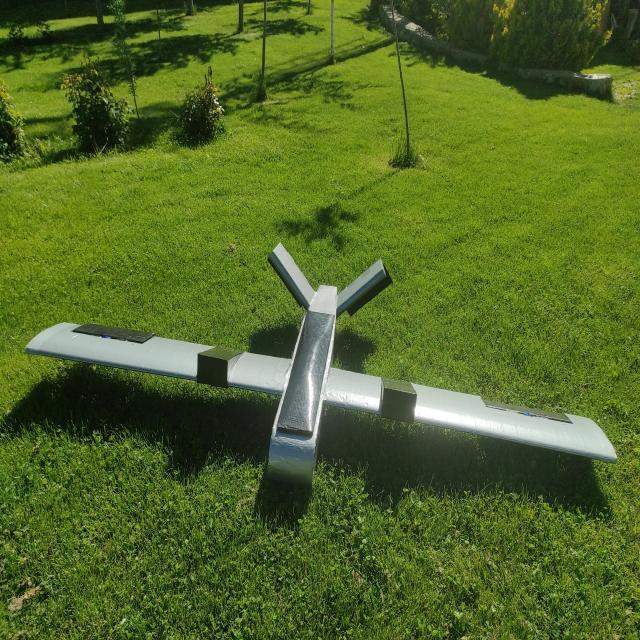UAV: (29, 222, 628, 518)
